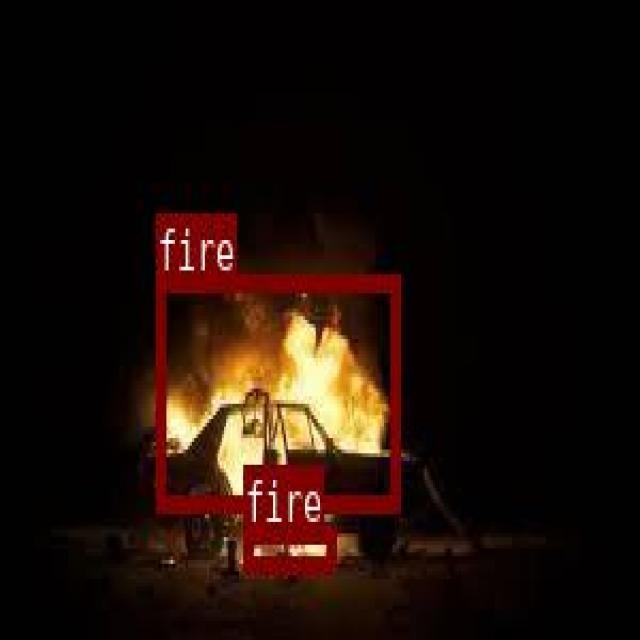fire: (155, 271, 399, 509), (243, 525, 334, 569)
